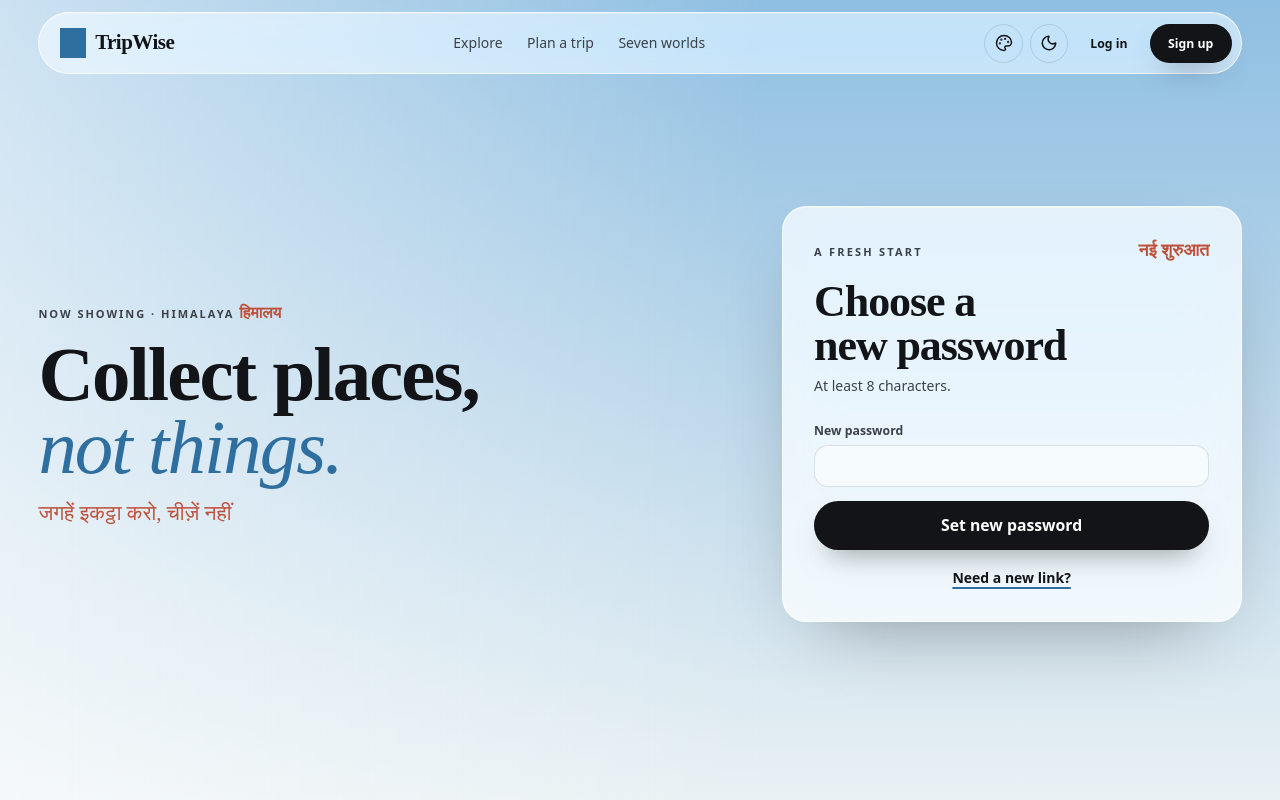
Scenario: forgot and reset password › sets a new password from the link
Type "brandnew123" into the password field labelled "New password".
click(1012, 466); type("brandnew123")  # box x1=814 y1=445 x2=1209 y2=487
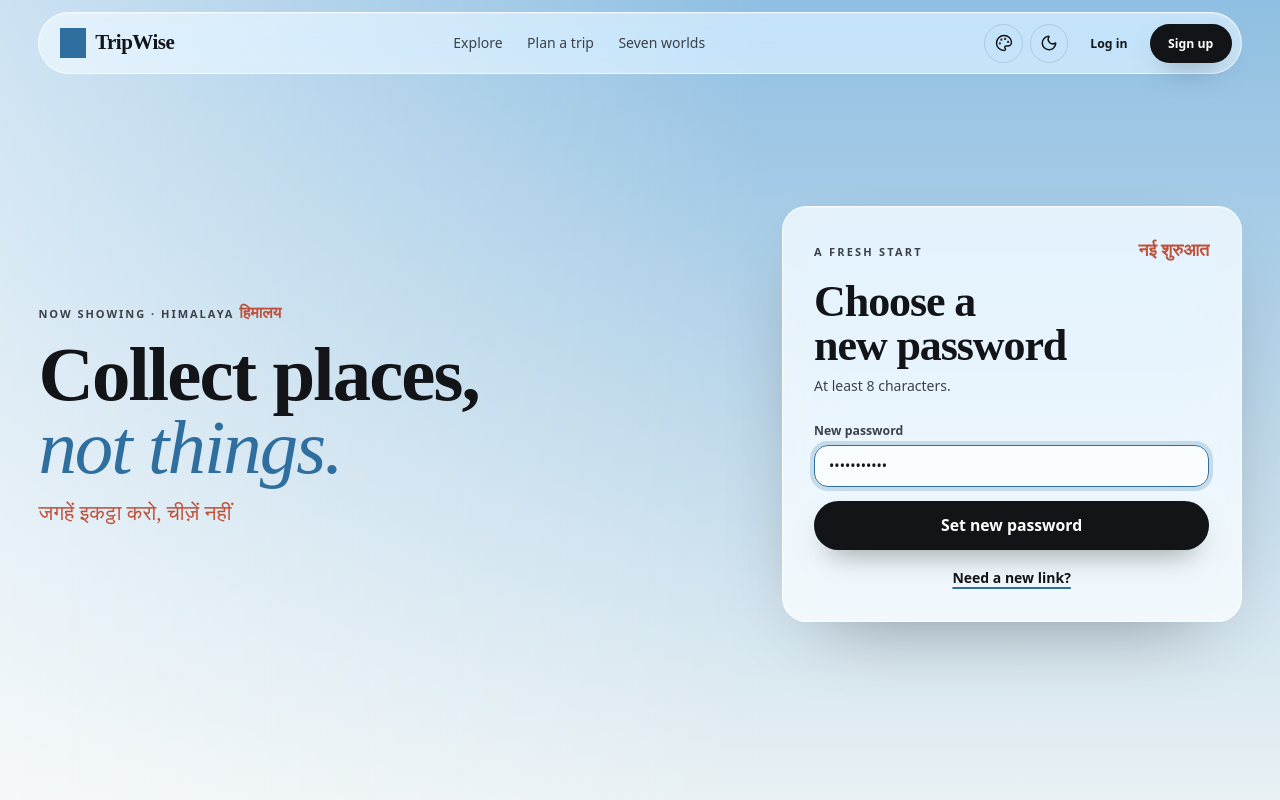
Click the button "Set new password".
click(1012, 525)  # box x1=814 y1=501 x2=1209 y2=550
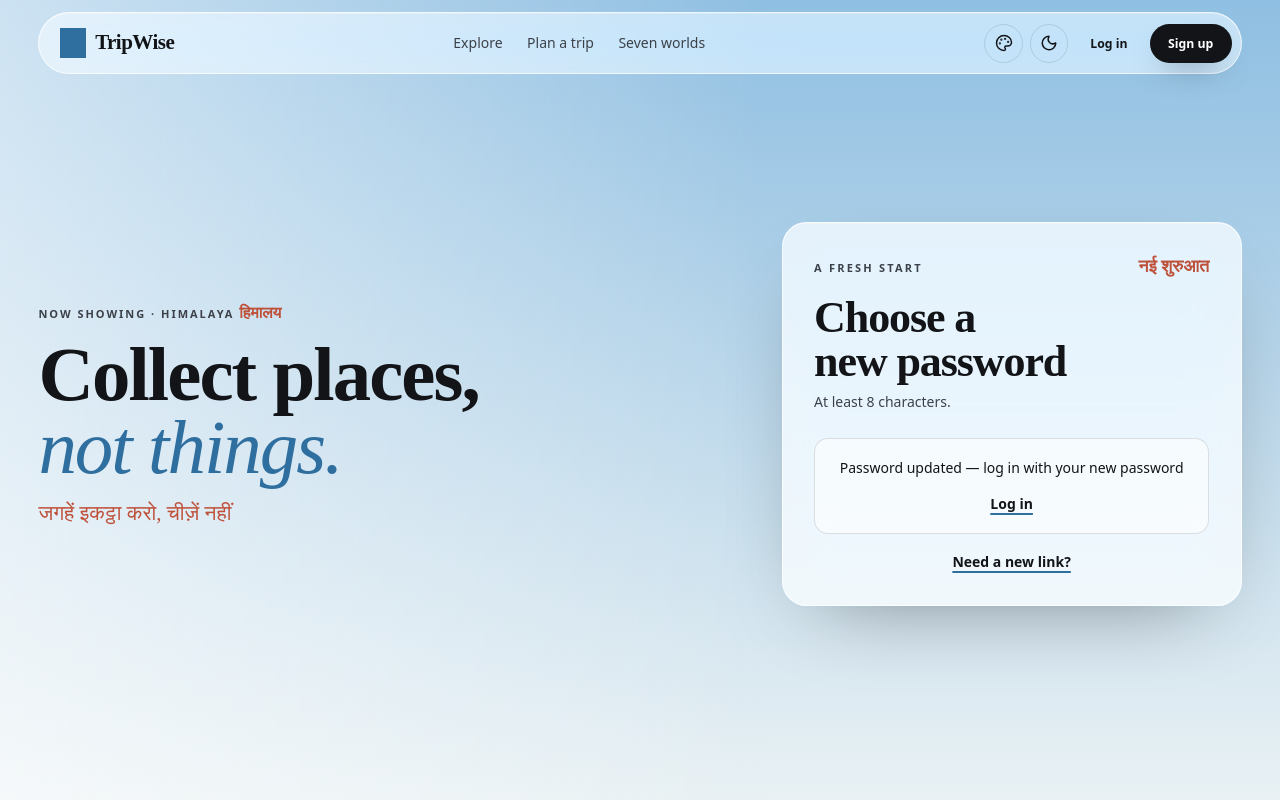
Now the text "Password updated — log in with your new password" is shown, box x1=840 y1=457 x2=1184 y2=479
